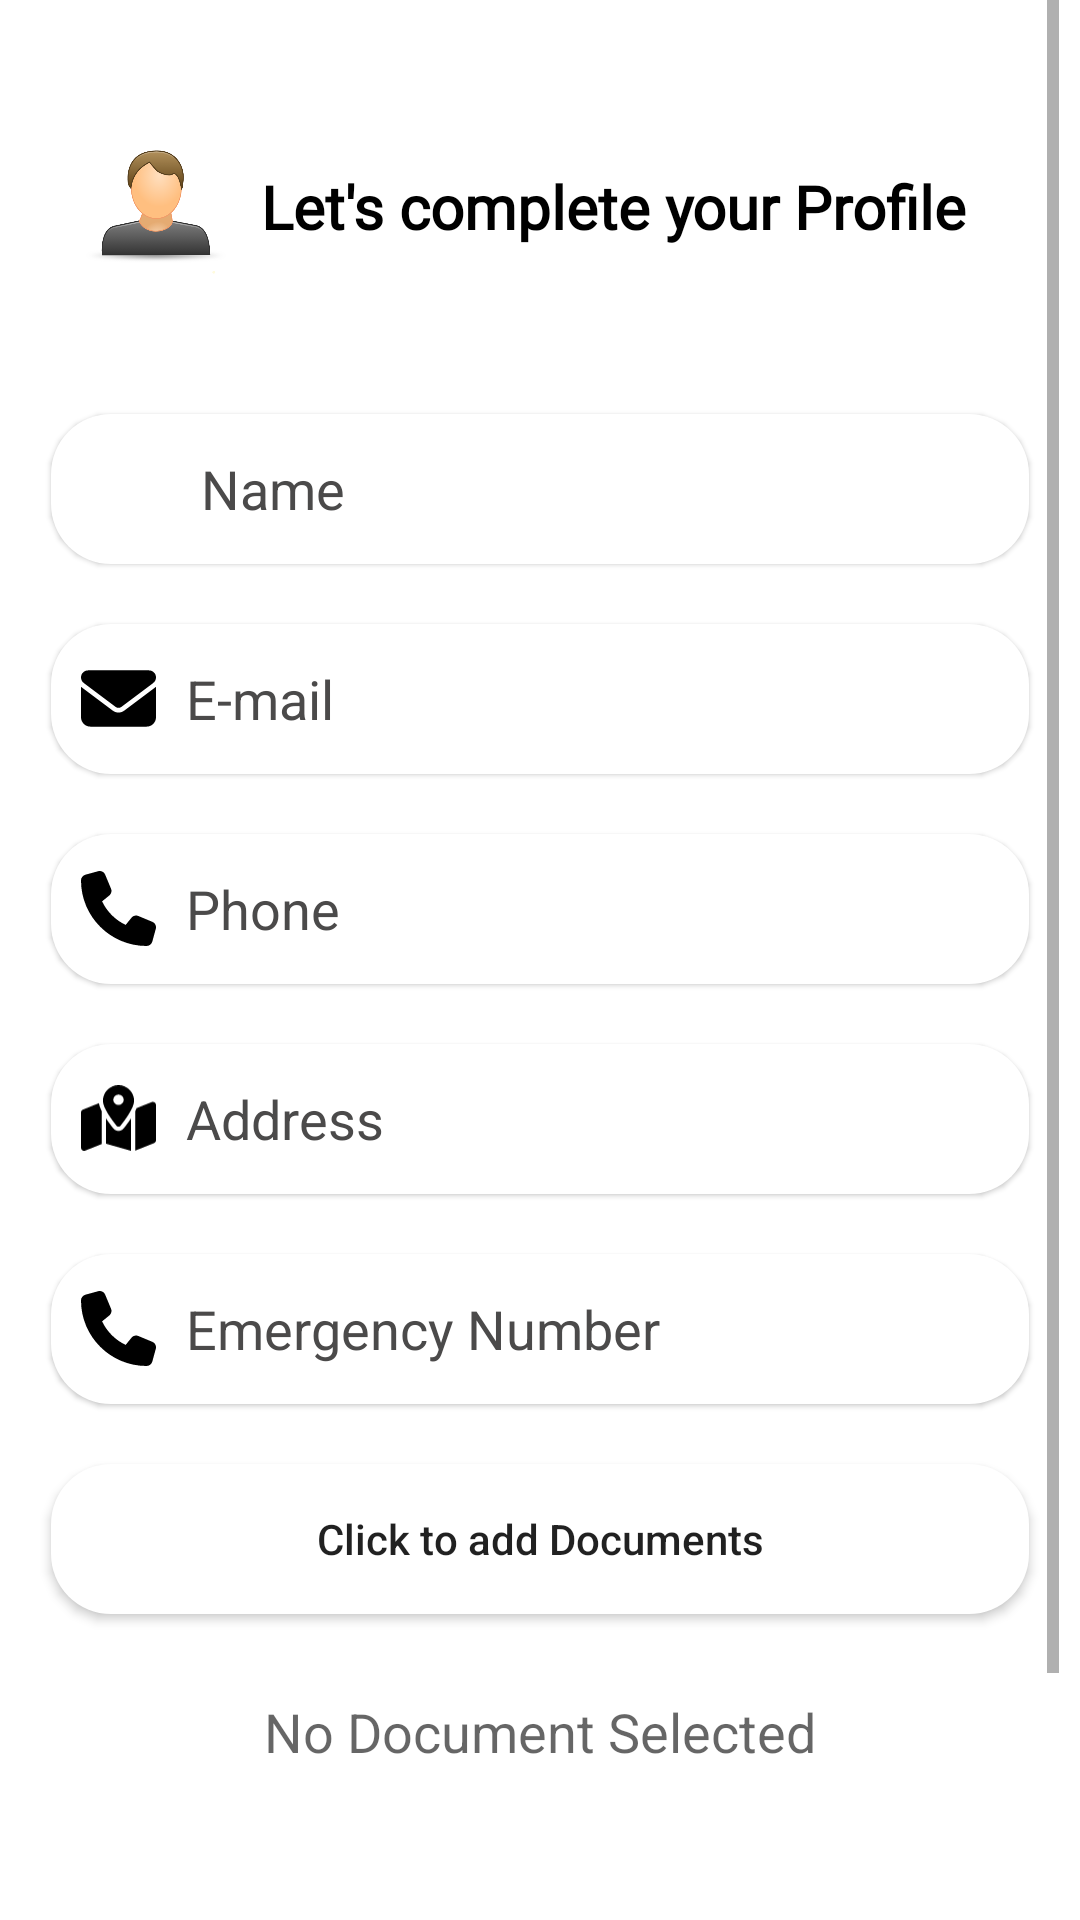

Where to tap for icons on this 1080*1920 app screen, as [x,y]:
map location dot: [118,1118]
user anim: [158,211]
